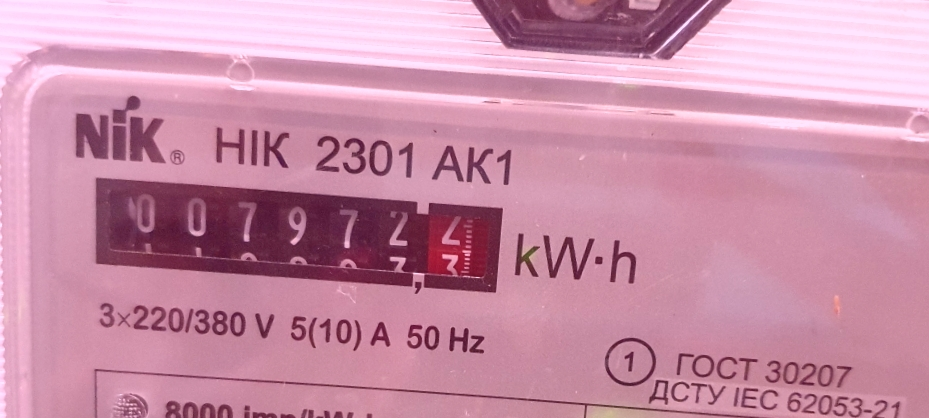0: (131, 190, 160, 234), (183, 194, 210, 237)
2: (386, 208, 412, 248), (437, 212, 463, 248)
3: (437, 250, 461, 277)
7: (333, 204, 362, 252), (232, 197, 260, 244)
9: (283, 202, 308, 247)
screen: (71, 160, 521, 311)
